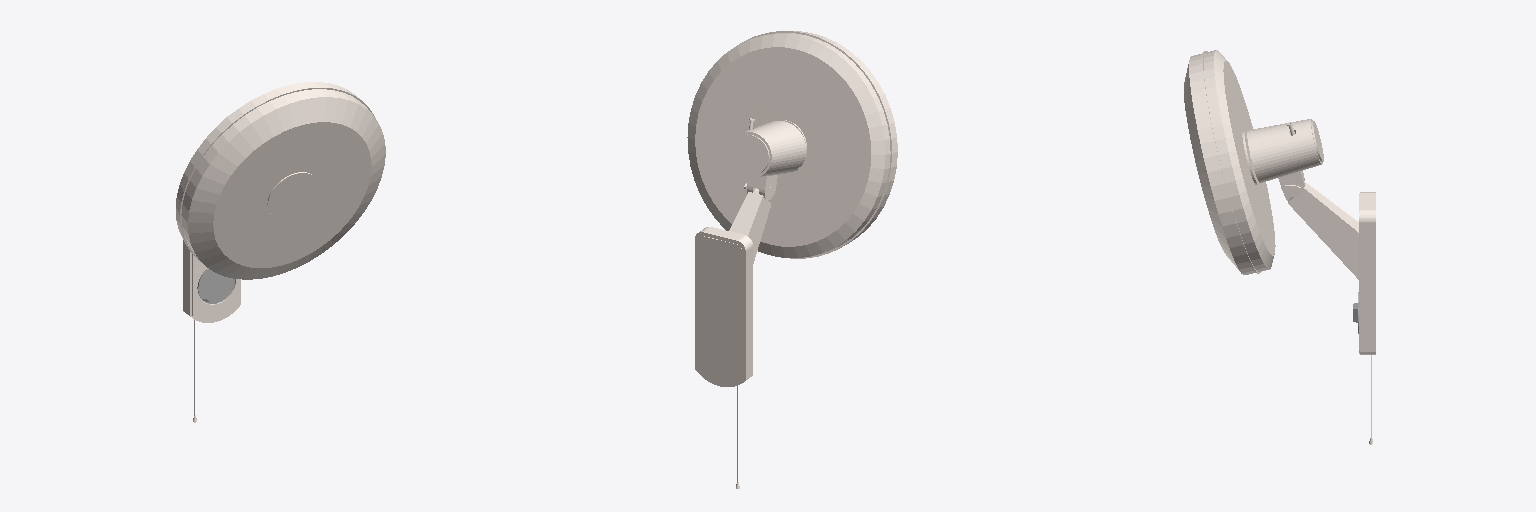
3 renders of one model, left to right at view 1: azimuth 30°, elevation 25°; view 2: azimuth 150°, elevation 25°; view 3: azimuth 270°, elevation 25°, orthographic.
Parts seen in each view (by area): view 1: Mesh16_fan_cover1_Group1_Model, Mesh14_base1_Group1_Model, Mesh17_dial1_Group1_Model; view 2: Mesh16_fan_cover1_Group1_Model, Mesh14_base1_Group1_Model, Mesh8_fan_motor1_Group1_Model, Mesh9_coupling1_Group1_Model; view 3: Mesh16_fan_cover1_Group1_Model, Mesh14_base1_Group1_Model, Mesh8_fan_motor1_Group1_Model.
Boxes of the visible parts, box(x1,y1,x2,y2) form: Mesh16_fan_cover1_Group1_Model: box(176, 82, 385, 279); Mesh14_base1_Group1_Model: box(183, 240, 240, 322); Mesh17_dial1_Group1_Model: box(197, 268, 234, 303); Mesh16_fan_cover1_Group1_Model: box(687, 31, 897, 258); Mesh14_base1_Group1_Model: box(695, 188, 770, 386); Mesh8_fan_motor1_Group1_Model: box(727, 118, 805, 177); Mesh9_coupling1_Group1_Model: box(744, 175, 777, 199); Mesh16_fan_cover1_Group1_Model: box(1184, 50, 1275, 274); Mesh14_base1_Group1_Model: box(1284, 181, 1375, 354); Mesh8_fan_motor1_Group1_Model: box(1247, 119, 1323, 182).
Size of the model in its own units: 10.97 by 20.58 by 9.2.